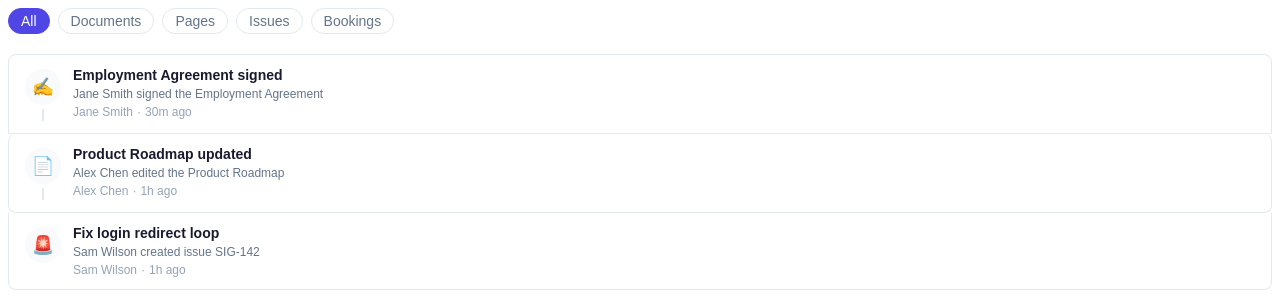
Scenario: ActivityFeed › filters activities when a filter tab is clicked
Note: Click "Documents" filter
Click the button "Documents" at (106, 21), box [58,8,154,34]
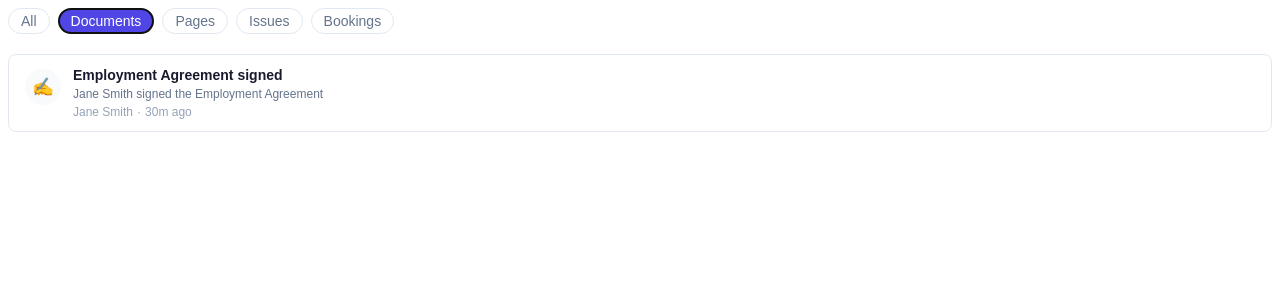
Expected: the text "Employment Agreement signed" is shown, [73,67,282,83]
Expected: the button "Product Roadmap updated" is gone
Expected: the button "Fix login redirect loop" is gone
